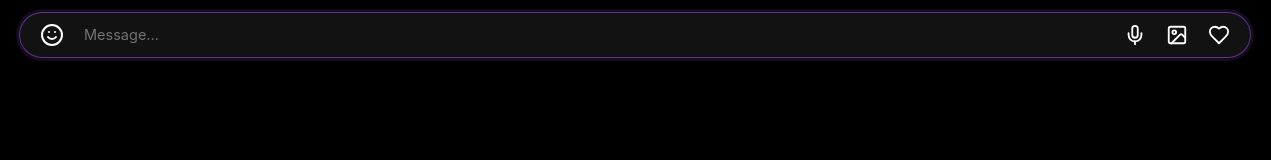
Test: Messages Page Dynamic Phone Web Responsive Suite › renders dynamic ChatInputBar with auto-expanding textarea, emoji drawer, and send transition
Later steps or results of the test are not shown.
expect the text box with placeholder "Message..." is shown: met, box [80, 17, 1108, 53]
expect the button named "Record voice message" is shown: met, box [1118, 18, 1152, 52]
Click the button named "Add emoji" at (52, 35), box [34, 17, 70, 53]
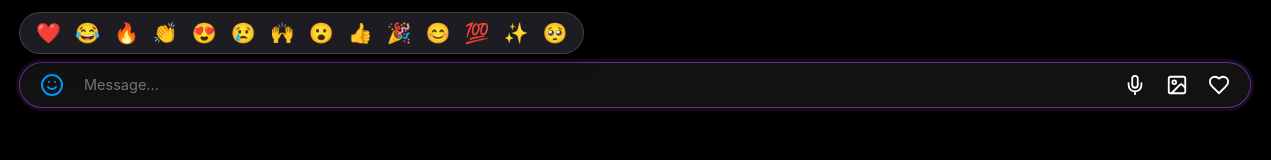
expect the element named "Quick emojis" is shown: met, box [19, 12, 584, 54]
